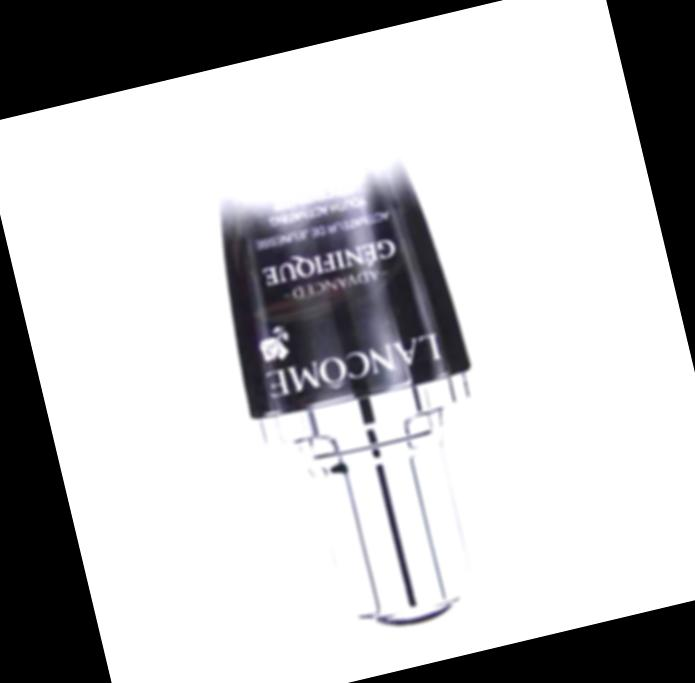cosmetic: (176, 62, 526, 653)
